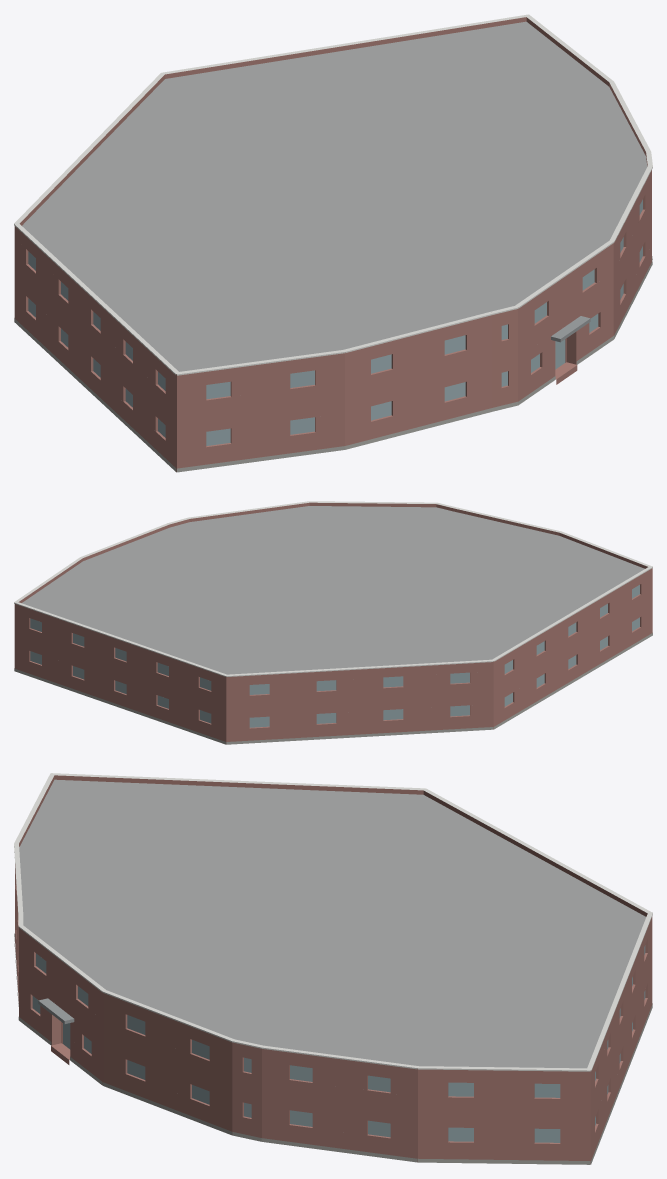
3 views of the same model, one above another, from view 1: azimuth 30°, elevation 25°; view 2: azimuth 150°, elevation 25°; view 3: azimuth 270°, elevation 25° (orthographic). The views are drawn at different scales.
Parts seen in each view (by area): view 1: b117903344__roof, b117903344__wall, b117903344__trim, b117903344__parapet, b117903344__glass, b117903344__base; view 2: b117903344__roof, b117903344__wall, b117903344__parapet, b117903344__glass, b117903344__trim, b117903344__base; view 3: b117903344__roof, b117903344__wall, b117903344__trim, b117903344__parapet, b117903344__glass, b117903344__base.
Part boxes in pixels (box(x1,y1,x2,y2)): b117903344__roof: box(22, 21, 647, 472); b117903344__wall: box(14, 171, 651, 471); b117903344__trim: box(14, 14, 652, 375); b117903344__parapet: box(14, 17, 651, 378); b117903344__glass: box(28, 199, 642, 445); b117903344__base: box(14, 256, 652, 472); b117903344__roof: box(22, 506, 644, 674); b117903344__wall: box(14, 570, 652, 744); b117903344__parapet: box(14, 502, 652, 678); b117903344__glass: box(30, 585, 639, 727); b117903344__trim: box(14, 501, 652, 676); b117903344__base: box(14, 633, 652, 744); b117903344__roof: box(19, 779, 646, 1068); b117903344__wall: box(15, 864, 652, 1163); b117903344__trim: box(14, 773, 652, 1071); b117903344__parapet: box(19, 775, 652, 1074); b117903344__glass: box(32, 945, 645, 1142); b117903344__base: box(14, 933, 652, 1164).
Bounding box in the file's own units: 50.99 × 7.95 × 46.3.
